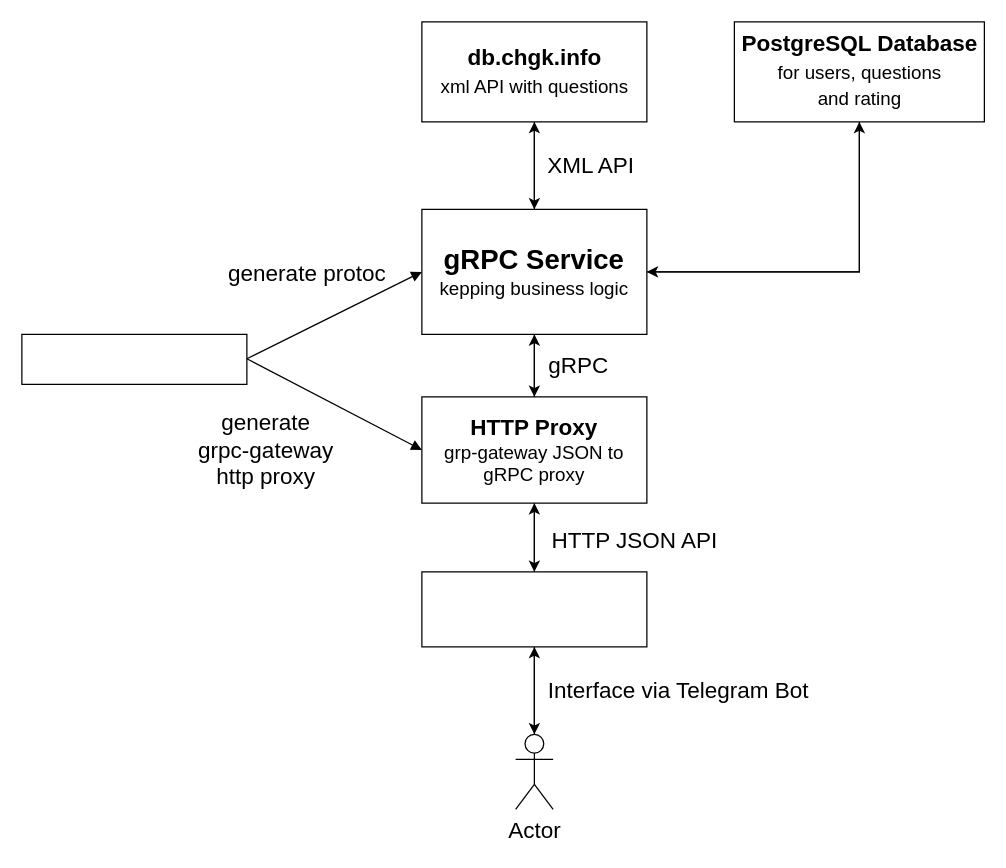
The diagram is 1006 pixels wide and 868 high, and some of its shapes have lost their labels. Each missing label, with the box of its shape:
chgk-telegram.proto: (21, 333, 247, 384)
Telegram Bot: (421, 571, 647, 647)
